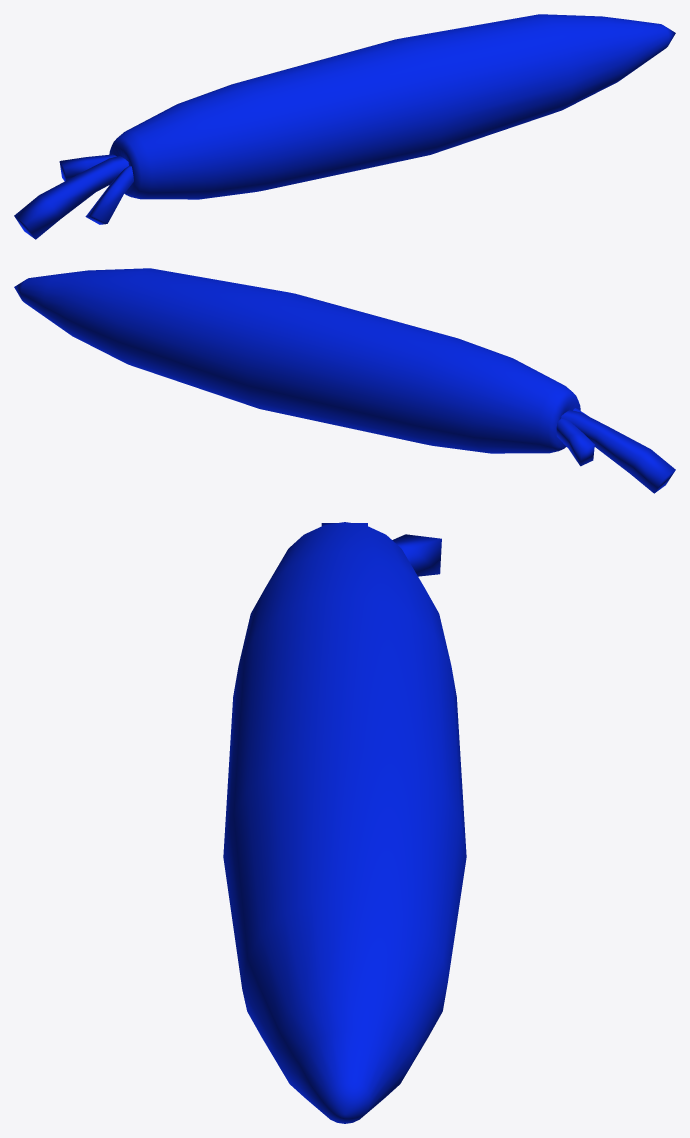
The model's file is S_Carrot_01.fbx.
3 views of the same model, one above another, from view 1: azimuth 30°, elevation 25°; view 2: azimuth 150°, elevation 25°; view 3: azimuth 270°, elevation 25° (orthographic). The views are drawn at different scales.
Parts seen in each view (by area): view 1: Cylinder.014_low; view 2: Cylinder.014_low; view 3: Cylinder.014_low.
Boxes of the visible parts, bbox=[...] form: Cylinder.014_low: bbox=[14, 14, 675, 239]; Cylinder.014_low: bbox=[14, 268, 675, 493]; Cylinder.014_low: bbox=[223, 522, 466, 1123].
Bounding box in the file's own units: 0.3366 × 0.054 × 0.054.
